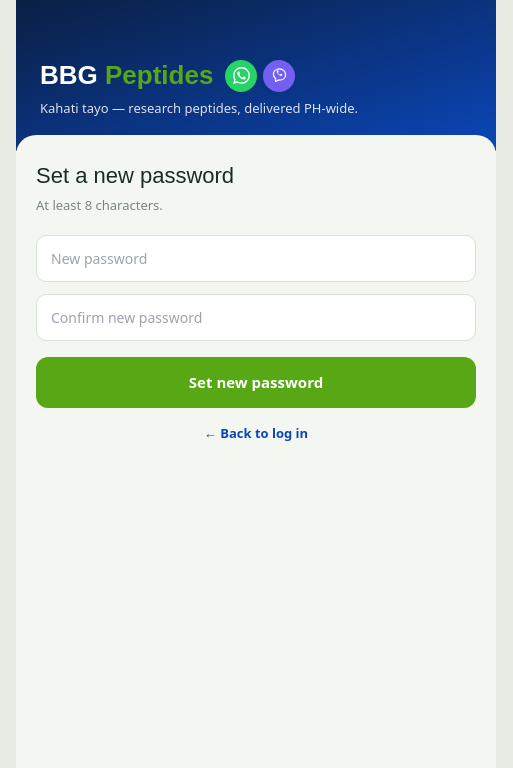
Test: Reset password page › catches a mistyped confirmation before spending the link
Type "brand-new-pw" into the password field with placeholder "New password" at (256, 258), box [36, 235, 476, 282]
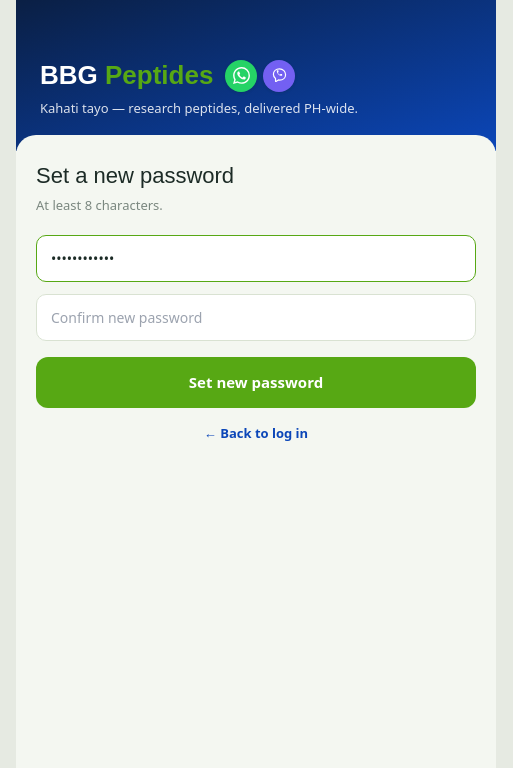
Type "brand-new-pX" into the password field with placeholder "Confirm new password" at (256, 318), box [36, 294, 476, 341]
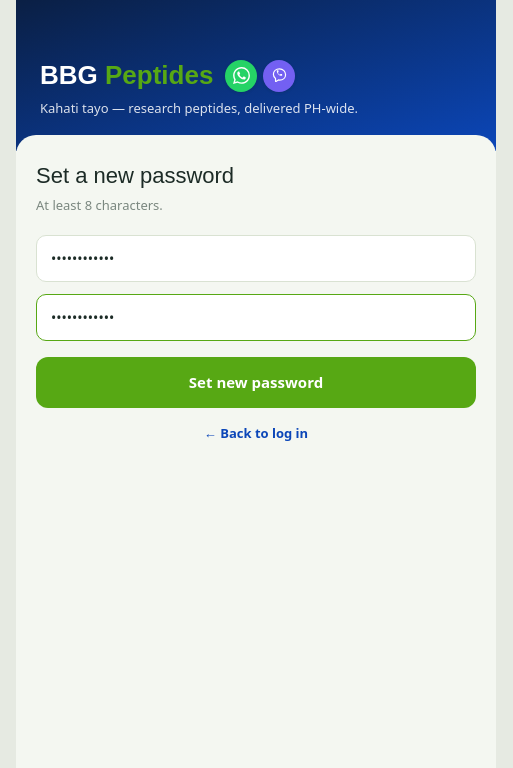
Click the button "Set new password" at (256, 382), box [36, 357, 476, 408]
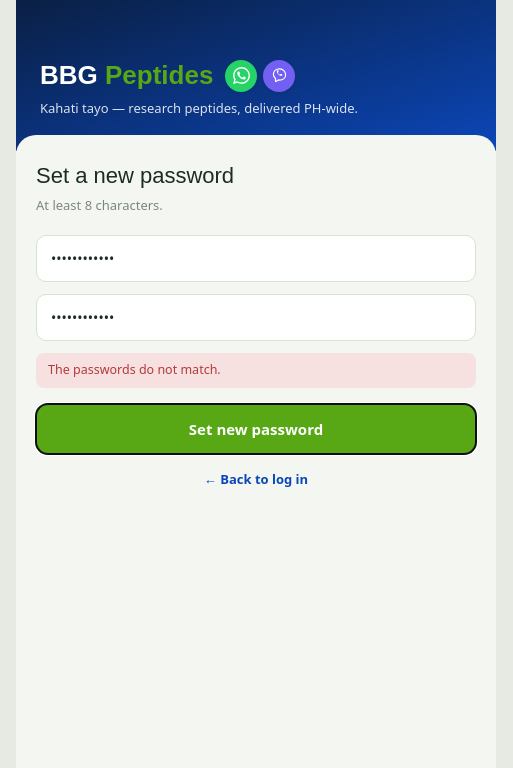
Now the text "The passwords do not match." is shown, box [36, 353, 476, 388]
